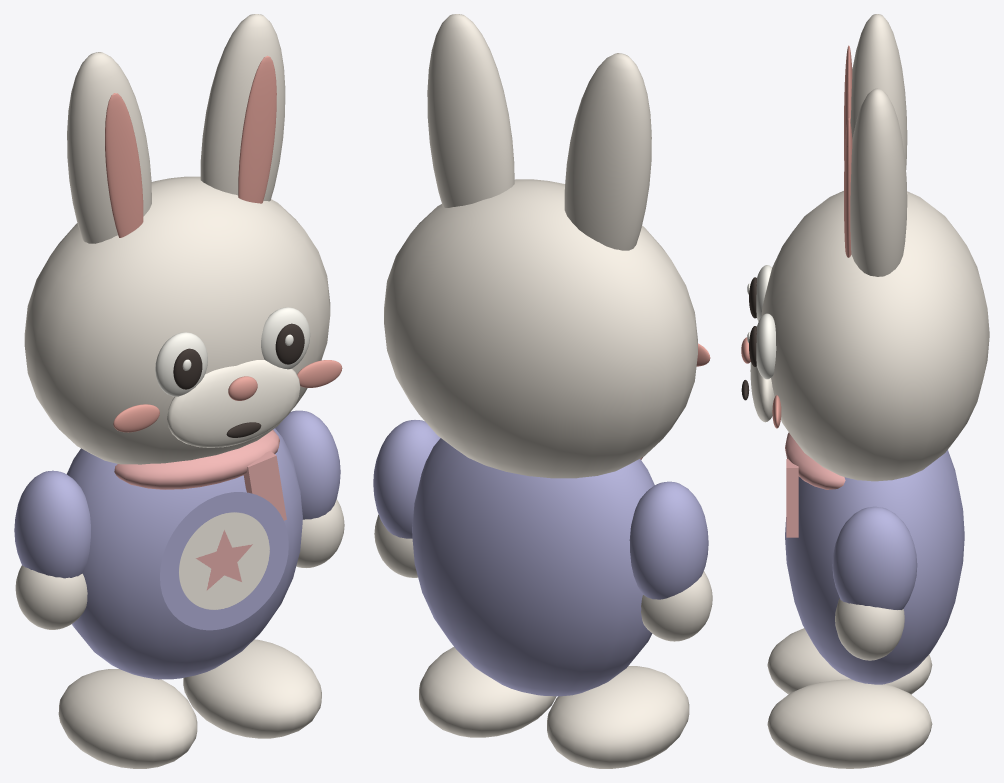
Rendered from idle.glb.
The picture shows the model from 3 angles, left to right: view 1: azimuth 30°, elevation 25°; view 2: azimuth 150°, elevation 25°; view 3: azimuth 270°, elevation 25°; orthographic projection. The views are drawn at different scales.
Parts seen in each view (by area): view 1: HeadShape, Body, StarBadge, FootL, FootR, Ear-1, Ear1, Muzzle, Sleeve-1, Sleeve1, ScarfBand, EarInner1 (+11 smaller); view 2: HeadShape, Body, Ear-1, Ear1, FootL, Sleeve-1, FootR, Sleeve1, Hand-1, Hand1; view 3: HeadShape, Body, FootR, Ear1, Sleeve1, Ear-1, FootL, Hand1, ScarfBand, EyeWhite1, ScarfTail, EarInner1 (+3 smaller).
Boxes of the visible parts, x1,y1,x2,y2 form: HeadShape: (24,176,330,464); Body: (67,428,302,679); StarBadge: (160,492,288,630); FootL: (58,669,197,768); FootR: (183,639,321,738); Ear-1: (67,52,151,243); Ear1: (200,14,285,201); Muzzle: (167,360,300,447); Sleeve-1: (14,470,90,578); Sleeve1: (275,410,340,519); ScarfBand: (114,430,279,489); EarInner1: (238,55,276,203); HeadShape: (384,179,697,478); Body: (412,438,654,696); Ear-1: (564,53,651,250); Ear1: (427,14,514,207); FootL: (547,666,689,768); Sleeve-1: (629,481,708,599); FootR: (419,647,556,737); Sleeve1: (373,420,440,538); Hand-1: (641,571,712,641); Hand1: (374,514,417,577); HeadShape: (761,191,989,481); Body: (785,450,964,684); FootR: (767,679,932,768); Ear1: (850,88,907,276); Sleeve1: (832,506,917,609); Ear-1: (850,14,907,169); FootL: (767,628,932,694); Hand1: (835,598,904,660); ScarfBand: (785,432,845,489); EyeWhite1: (756,313,776,379); ScarfTail: (786,459,798,537); EarInner1: (844,117,852,257).
Size of the model in its own units: 1.44 by 3 by 0.995.
Materials: 8 (1 with a texture image).
